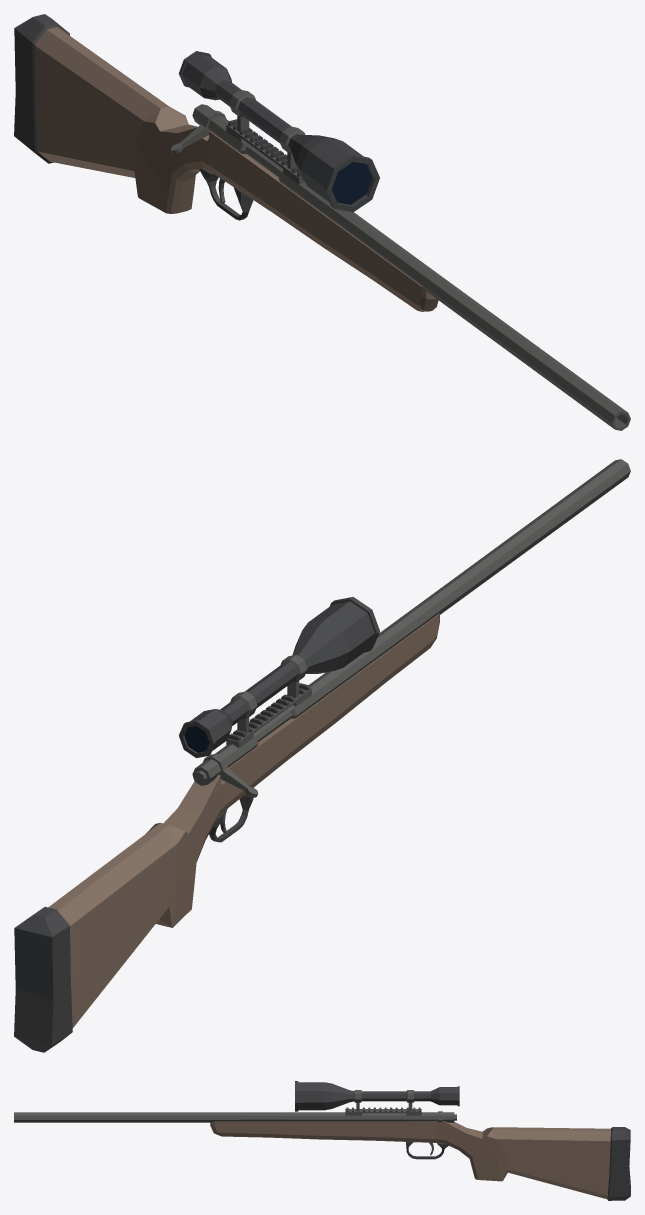
File: sniper_6.glb
3 views of the same model, one above another, from view 1: azimuth 30°, elevation 25°; view 2: azimuth 150°, elevation 25°; view 3: azimuth 270°, elevation 25° (orthographic). The views are drawn at different scales.
Parts seen in each view (by area): view 1: sniper_6; view 2: sniper_6; view 3: sniper_6.
Part boxes in pixels (x1=…): sniper_6: x1=14, y1=14, x2=630, y2=430; sniper_6: x1=14, y1=459, x2=630, y2=1052; sniper_6: x1=14, y1=1081, x2=630, y2=1200.
Bounding box in the file's own units: 0.0799 × 0.2457 × 1.17.
